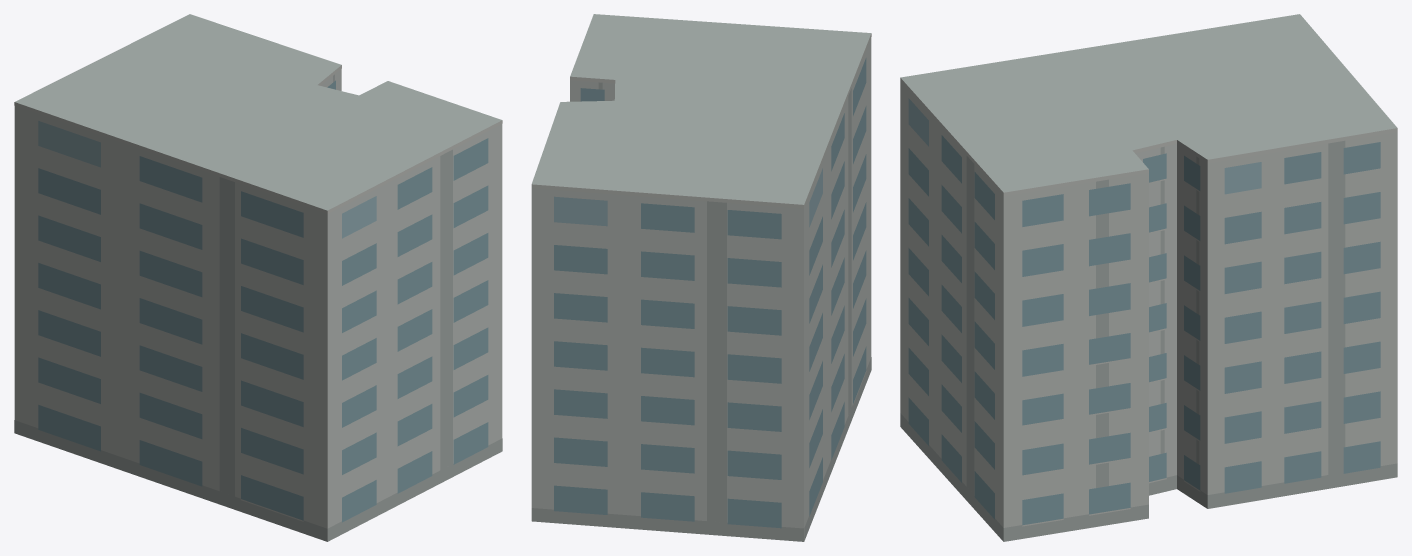
The model's file is survey-upis-32845513.glb.
3 views of the same model, side by side, from view 1: azimuth 30°, elevation 25°; view 2: azimuth 150°, elevation 25°; view 3: azimuth 270°, elevation 25° (orthographic). The views are drawn at different scales.
Parts seen in each view (by area): view 1: survey-upis-32845513.tmp; view 2: survey-upis-32845513.tmp; view 3: survey-upis-32845513.tmp.
Part boxes in pixels (x1,y1,x2,y2): survey-upis-32845513.tmp: (14,14,502,541); survey-upis-32845513.tmp: (531,14,871,541); survey-upis-32845513.tmp: (900,14,1397,541).
Bounding box in the file's own units: 24.15 × 22 × 28.41.
